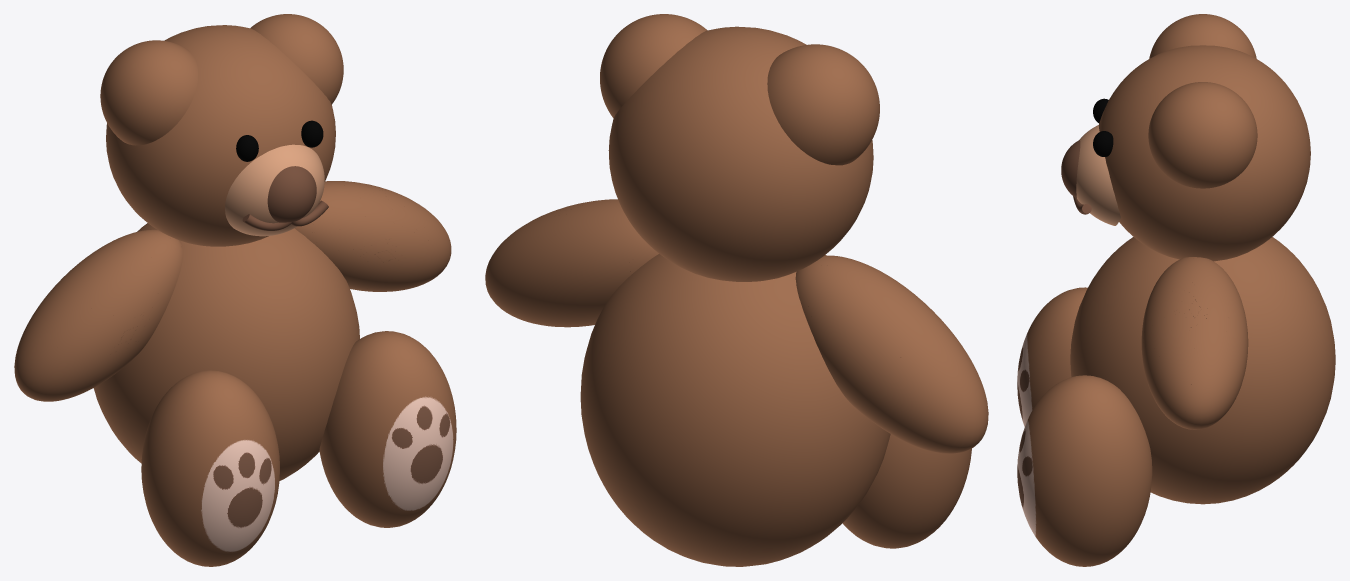
The model's file is teddy.fbx.
The picture shows the model from 3 angles, left to right: view 1: azimuth 30°, elevation 25°; view 2: azimuth 150°, elevation 25°; view 3: azimuth 270°, elevation 25°; orthographic projection. The views are drawn at different scales.
Parts seen in each view (by area): view 1: node_id248, node_id264, node_id250, node_id252, node_id254, node_id256, node_id266, node_id272, node_id268, node_id258; view 2: node_id248, node_id264, node_id254, node_id256, node_id266, node_id250, node_id268; view 3: node_id248, node_id264, node_id252, node_id256, node_id268, node_id250, node_id266, node_id272, node_id258, node_id270.
Boxes of the visible parts, x1=… form: node_id248: x1=93, y1=223, x2=359, y2=480; node_id264: x1=106, y1=25, x2=335, y2=246; node_id250: x1=141, y1=370, x2=279, y2=566; node_id252: x1=319, y1=331, x2=456, y2=527; node_id254: x1=14, y1=229, x2=183, y2=401; node_id256: x1=294, y1=181, x2=451, y2=291; node_id266: x1=100, y1=40, x2=197, y2=145; node_id272: x1=225, y1=144, x2=324, y2=236; node_id268: x1=250, y1=14, x2=343, y2=104; node_id258: x1=267, y1=166, x2=316, y2=222; node_id248: x1=580, y1=254, x2=890, y2=566; node_id264: x1=608, y1=26, x2=873, y2=281; node_id254: x1=795, y1=255, x2=988, y2=453; node_id256: x1=485, y1=199, x2=658, y2=327; node_id266: x1=767, y1=44, x2=879, y2=165; node_id250: x1=842, y1=434, x2=971, y2=548; node_id268: x1=600, y1=14, x2=707, y2=117; node_id248: x1=1070, y1=237, x2=1335, y2=504; node_id264: x1=1099, y1=45, x2=1310, y2=261; node_id252: x1=1017, y1=375, x2=1152, y2=566; node_id256: x1=1141, y1=257, x2=1248, y2=429; node_id268: x1=1148, y1=82, x2=1257, y2=188; node_id250: x1=1017, y1=287, x2=1087, y2=426; node_id266: x1=1149, y1=14, x2=1256, y2=58; node_id272: x1=1076, y1=125, x2=1120, y2=225; node_id258: x1=1061, y1=140, x2=1080, y2=198; node_id270: x1=1093, y1=131, x2=1113, y2=156.
Size of the model in its own units: 0.4626 by 0.4901 by 0.3058.
Materials: 14 (14 with a texture image).
